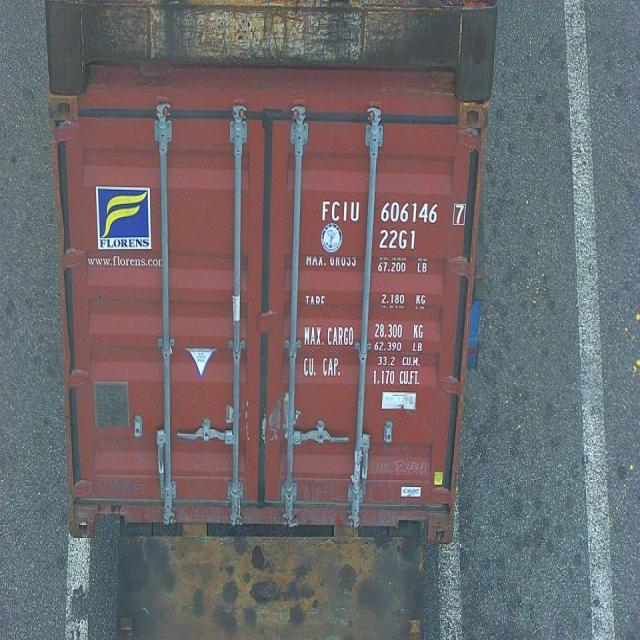ISO: (378, 228, 418, 254)
container_number: (320, 198, 468, 228)
